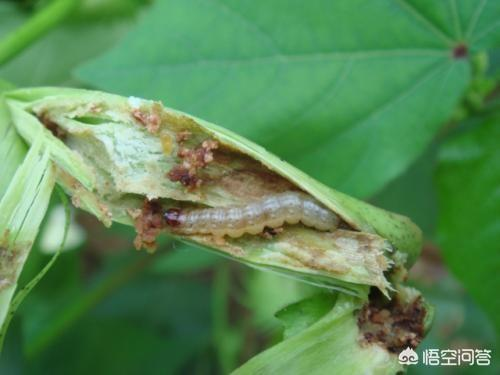pest: (148, 177, 355, 268)
